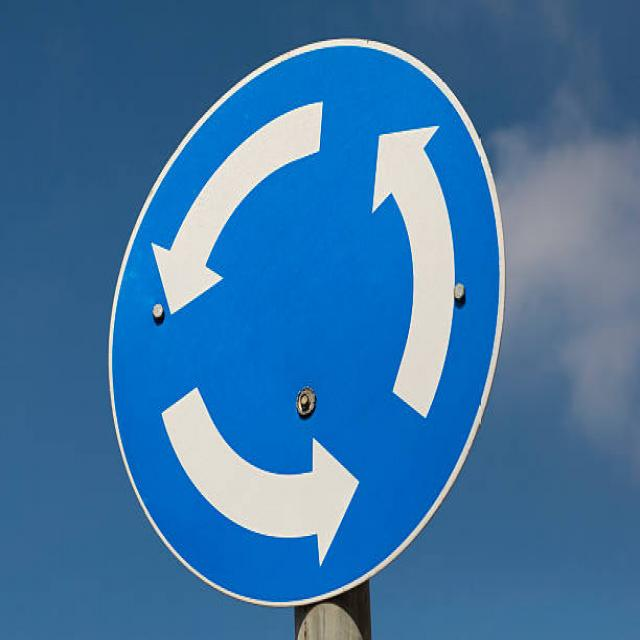round_about: (102, 37, 512, 611)
